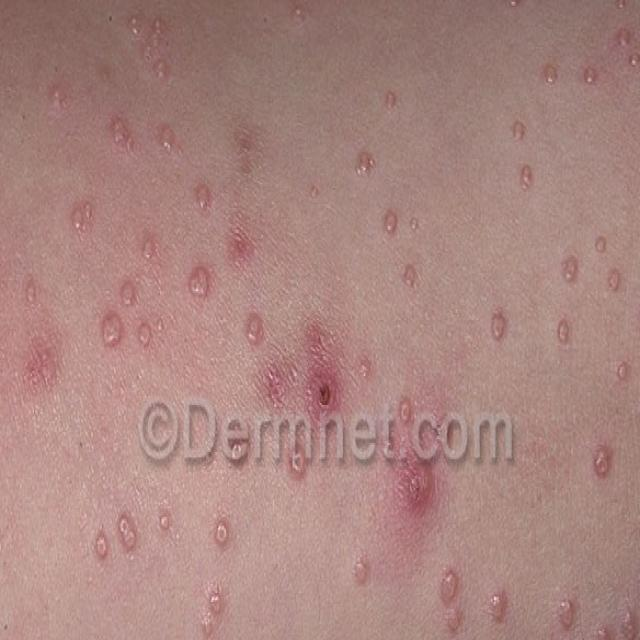Viral Infections: (0, 24, 282, 389), (483, 18, 640, 490), (75, 482, 243, 640), (334, 70, 437, 310), (428, 551, 640, 640), (295, 362, 362, 421), (393, 463, 450, 527), (338, 540, 387, 592), (0, 521, 9, 575)
